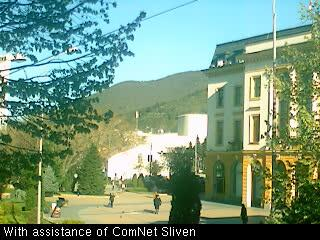person: (153, 194, 162, 214), (240, 203, 248, 224), (109, 192, 115, 208), (121, 182, 126, 192), (112, 182, 115, 191)
